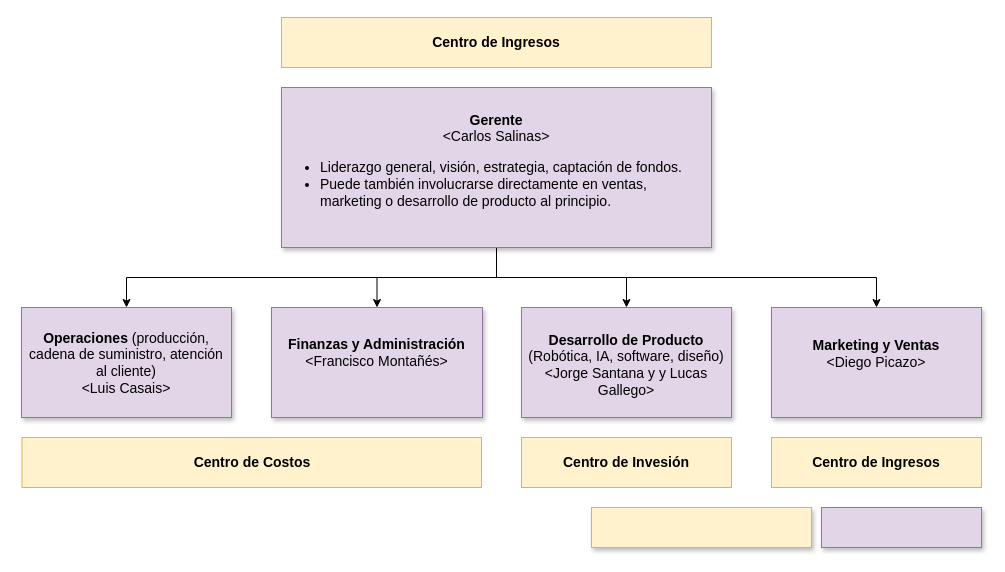
Image size: 1005x572. Some labels were removed from this diagram. The centre of each missing label's shape, as x and y in pixels:
Estructura de Costes e Ingresos: (x=702, y=528)
Socios Fundadores: (x=902, y=528)
